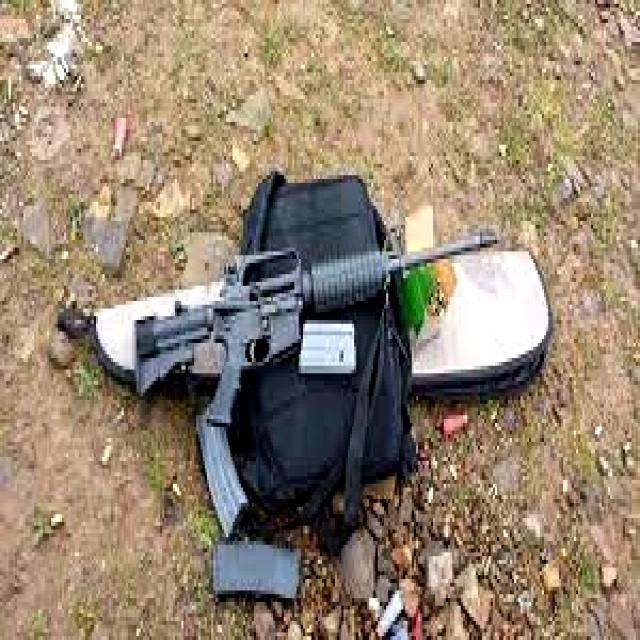m16: (130, 216, 528, 420)
